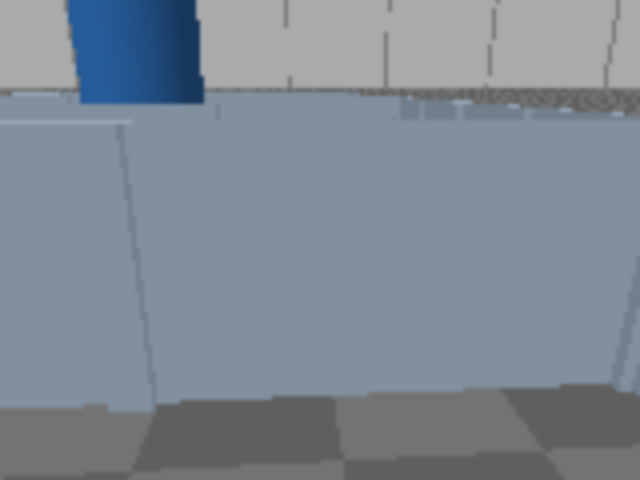person: (0, 0, 7, 227)
